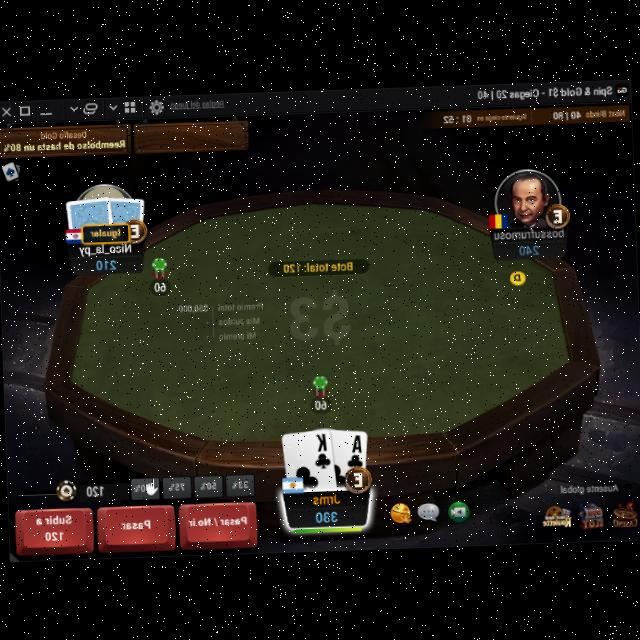Ac: (343, 430, 364, 468)
Kc: (312, 428, 331, 468)
bet_text: (313, 394, 327, 408), (152, 278, 166, 289), (154, 279, 168, 290)
card_back: (62, 191, 116, 239), (103, 191, 145, 233)
dealer: (508, 266, 528, 284)
hero_active: (9, 494, 260, 553)
pot_text: (282, 254, 354, 272)
stack_text: (313, 504, 340, 522), (94, 253, 118, 268), (518, 239, 540, 254)
